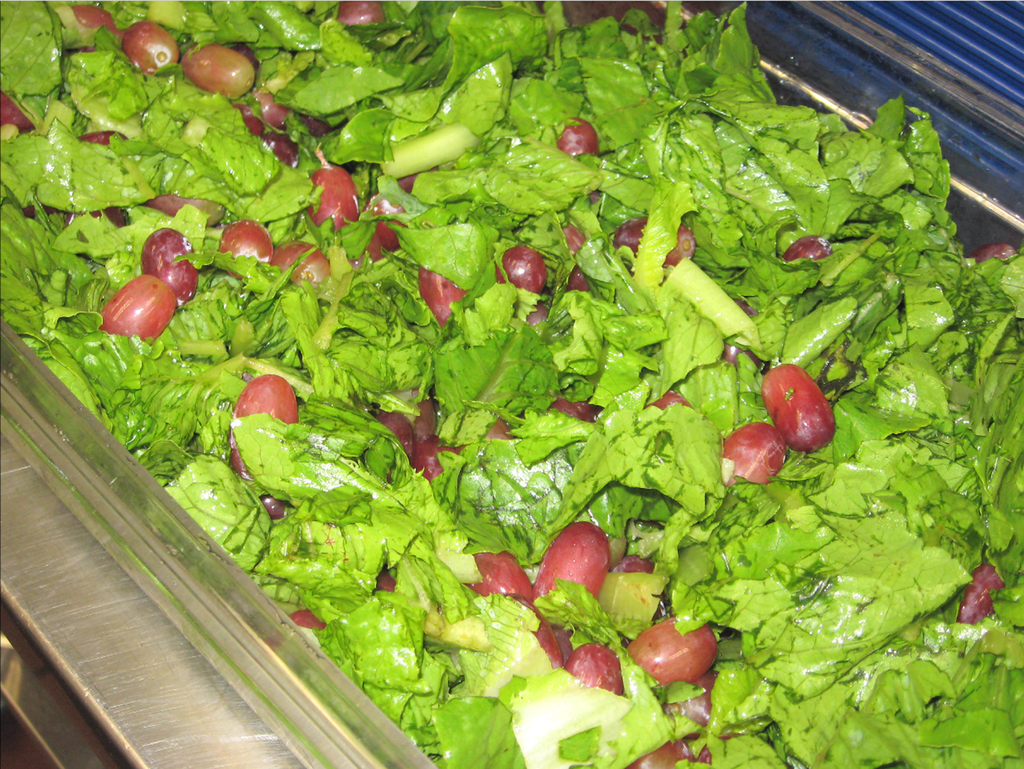salad: (1, 0, 1021, 768)
